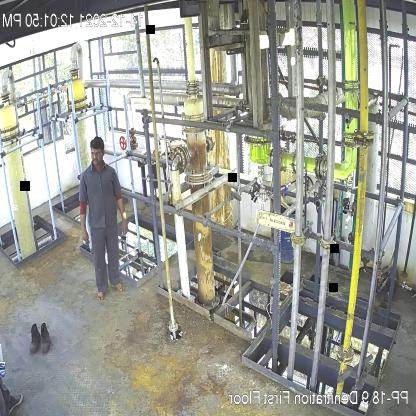no_shoes: (110, 282, 126, 292), (96, 290, 107, 303)
shoes: (37, 322, 52, 354), (28, 324, 40, 353)
